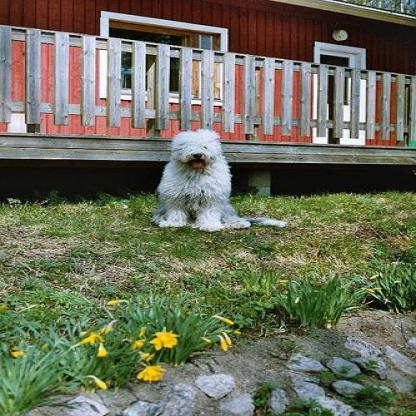Old_English_sheepdog: (151, 126, 287, 233)
